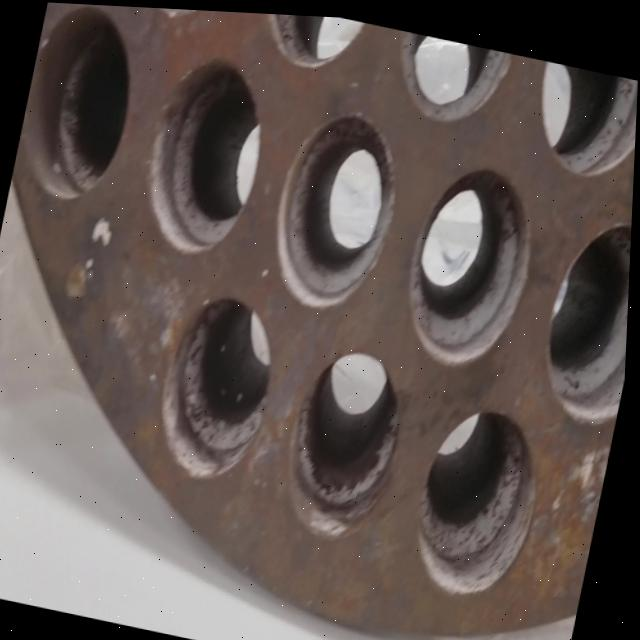Hole: (395, 148, 548, 371), (263, 97, 412, 315), (133, 43, 278, 261), (408, 393, 556, 602), (276, 334, 418, 546), (149, 278, 290, 487), (10, 1, 148, 209), (533, 201, 634, 420), (523, 53, 639, 181), (384, 25, 516, 128)
